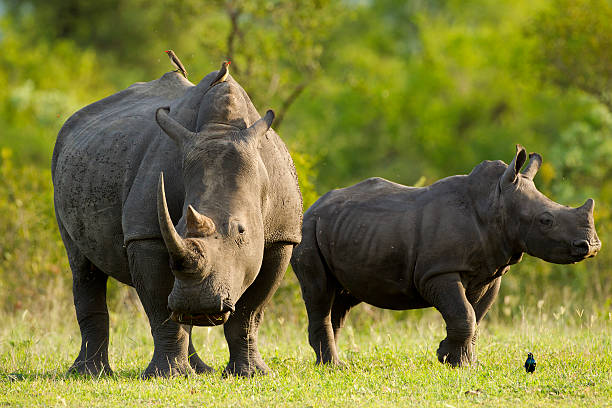rhino: (127, 94, 291, 346), (470, 129, 612, 283)
